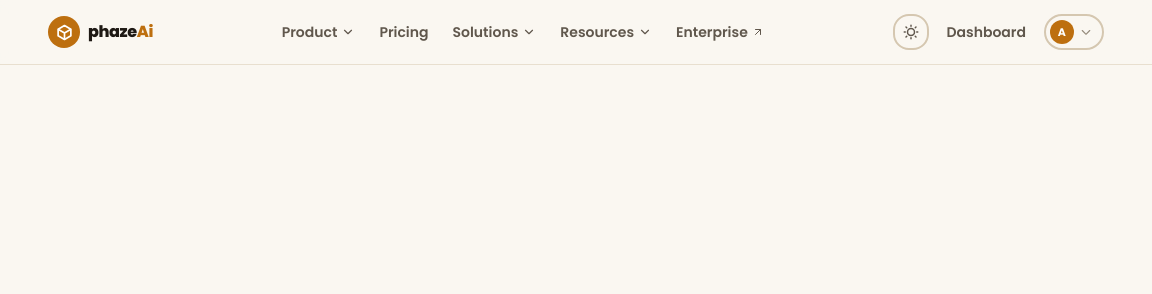
marketing navigation › shows Admin Dashboard in the profile menu for an admin account
Step 1. Click the button named "Account menu" → click(1074, 32), box x1=1044 y1=14 x2=1104 y2=50
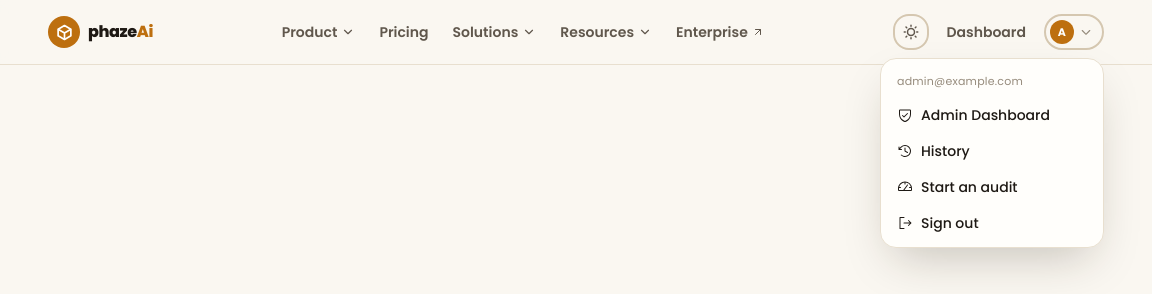
Expected: the button "Admin Dashboard" is shown, x1=887 y1=97 x2=1097 y2=133
